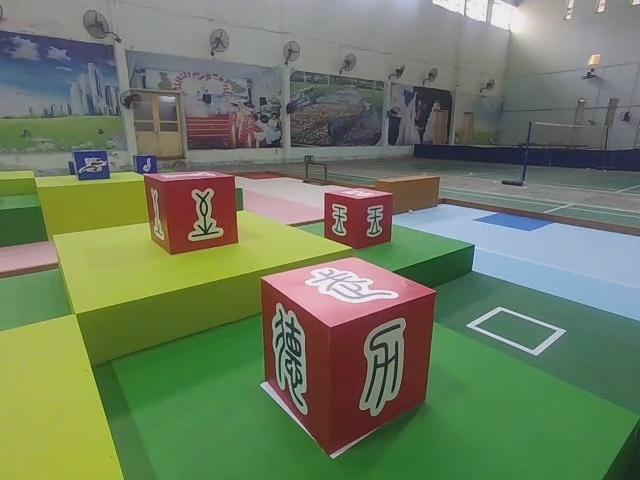R2 Fake: (259, 255, 435, 462)
R2 Real: (144, 175, 239, 255), (321, 187, 393, 247)
